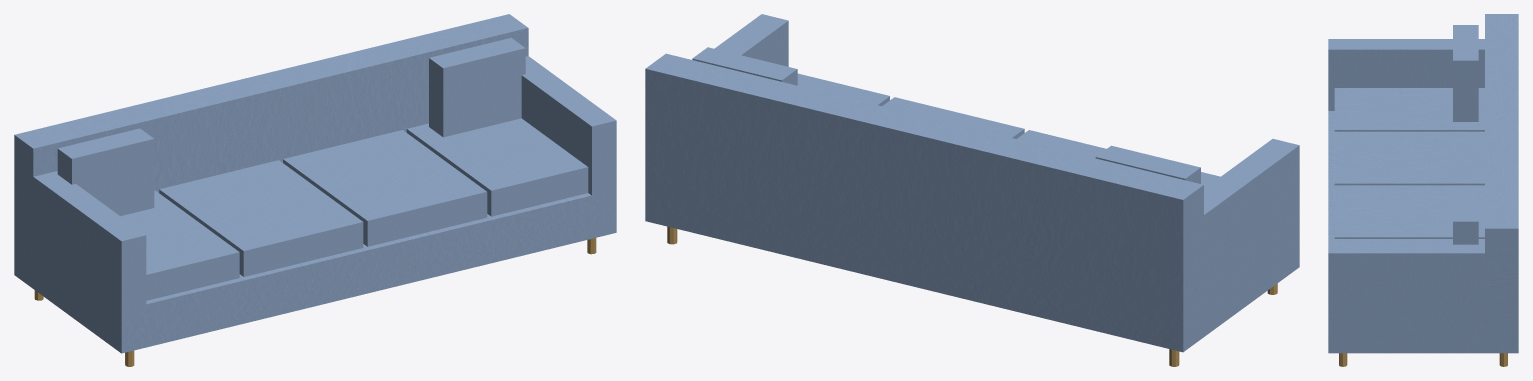
The model's file is sofa_4_lugares.glb.
The picture shows the model from 3 angles, left to right: view 1: azimuth 30°, elevation 25°; view 2: azimuth 150°, elevation 25°; view 3: azimuth 270°, elevation 25°; orthographic projection. The views are drawn at different scales.
Parts seen in each view (by area): view 1: sofa_4_lugares; view 2: sofa_4_lugares; view 3: sofa_4_lugares.
Part boxes in pixels (left/top/right/bottom): sofa_4_lugares: left=14, top=14, right=616, bottom=366; sofa_4_lugares: left=645, top=14, right=1299, bottom=366; sofa_4_lugares: left=1328, top=14, right=1518, bottom=366.
Size of the model in its own units: 2.4 by 0.75 by 0.9.
3 materials, 2 textured.
